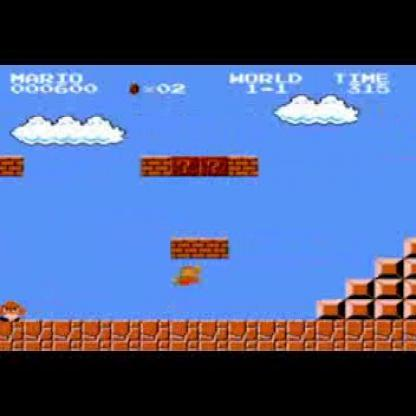Goomba: (0, 298, 26, 322)
